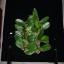leaf: (14, 36, 25, 48), (38, 44, 52, 52), (38, 35, 50, 44), (33, 13, 39, 30), (41, 21, 50, 30), (26, 41, 37, 48), (27, 26, 38, 33), (14, 19, 26, 25), (40, 16, 49, 24), (38, 30, 44, 40), (27, 36, 35, 42), (17, 26, 26, 31)
